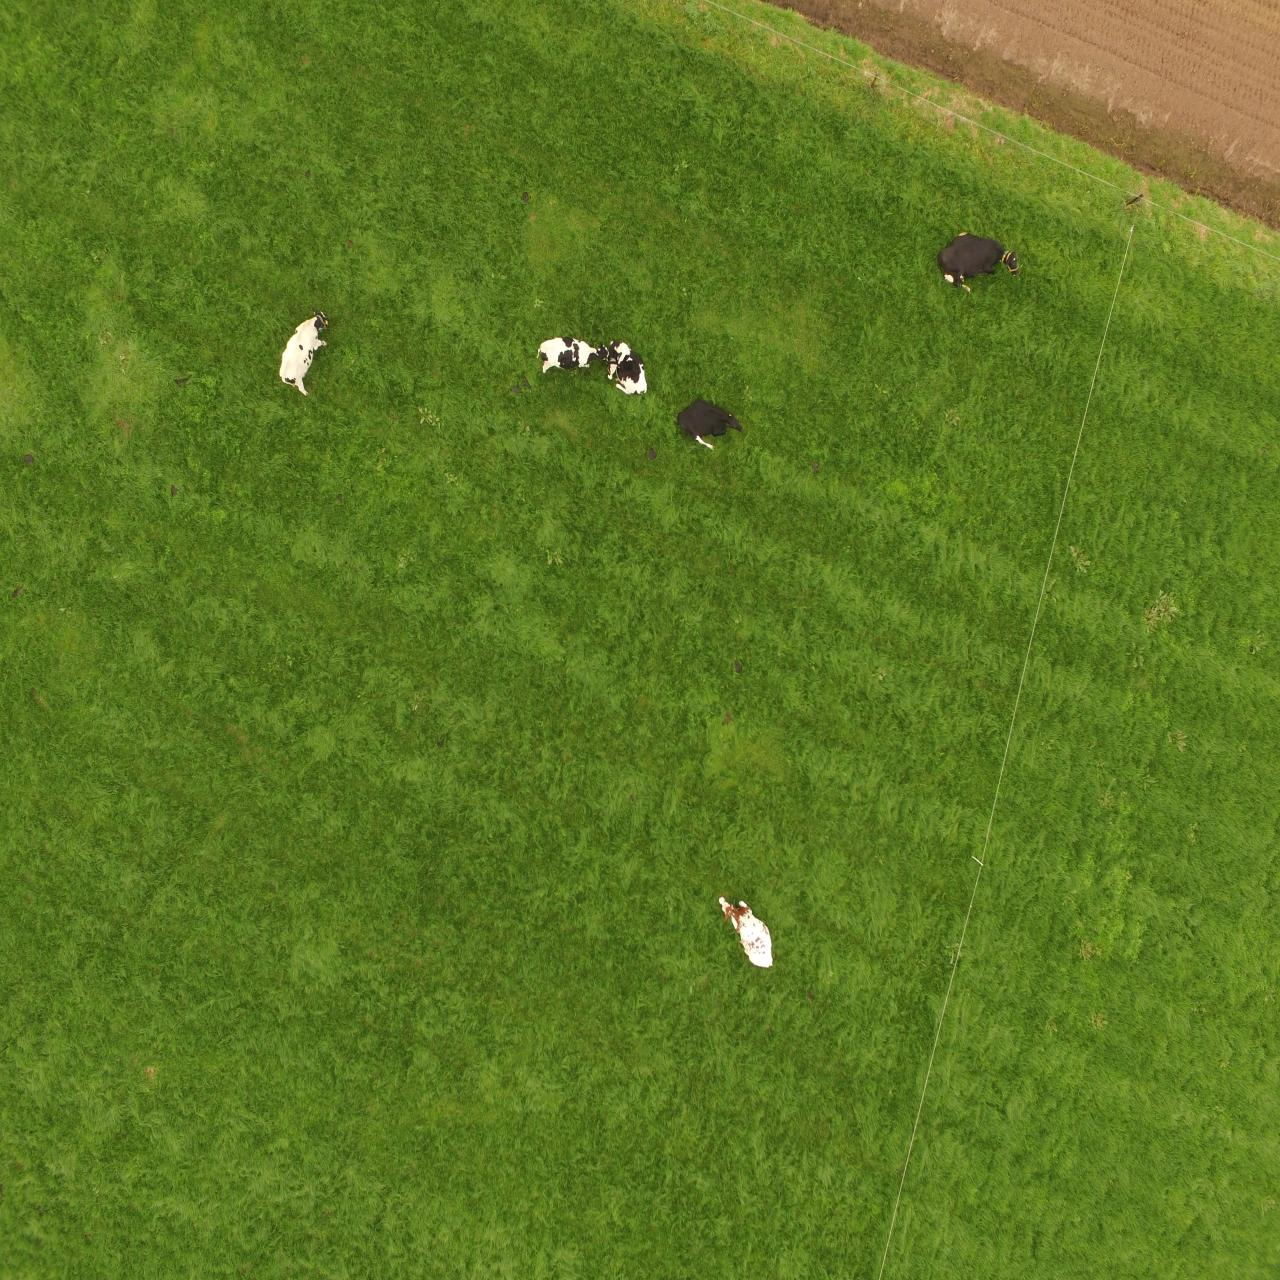cow: (934, 225, 1023, 297), (277, 305, 332, 411), (715, 893, 776, 972), (672, 396, 745, 456), (604, 334, 651, 397), (536, 335, 601, 380)
